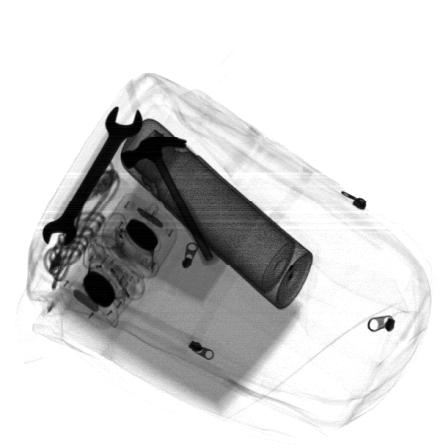Hammer: (122, 136, 215, 266)
Wrench: (41, 104, 142, 246)
